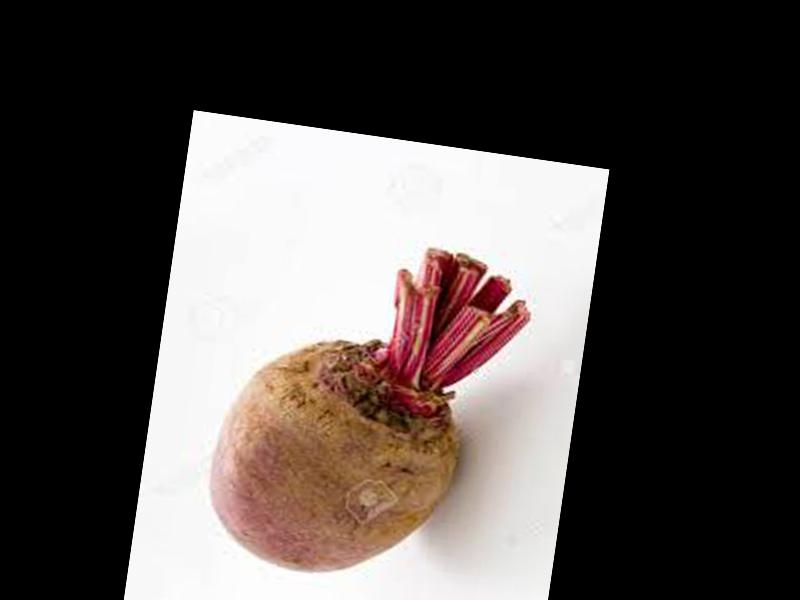Beer: (161, 108, 727, 339)
